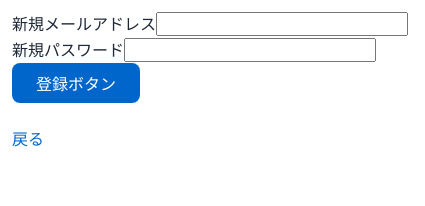
Scenario: RegisterPage › 登録に失敗したらエラーメッセージを表示する
In the field labelled "新規メールアドレス": (282, 24) [156, 12, 408, 36], type "test@example.com"
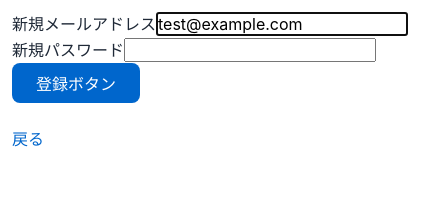
In the password field labelled "新規パスワード": (250, 50) [124, 38, 376, 62], type "password123"
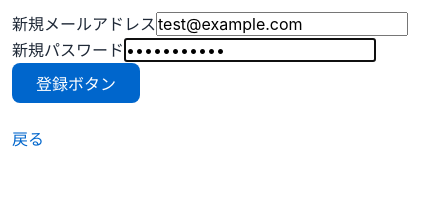
Click the button "登録ボタン": (76, 83) [12, 63, 140, 103]
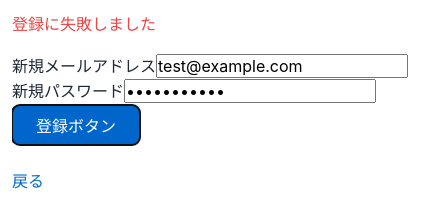
Check: the text "登録に失敗しました" is shown, box [12, 14, 156, 34]
